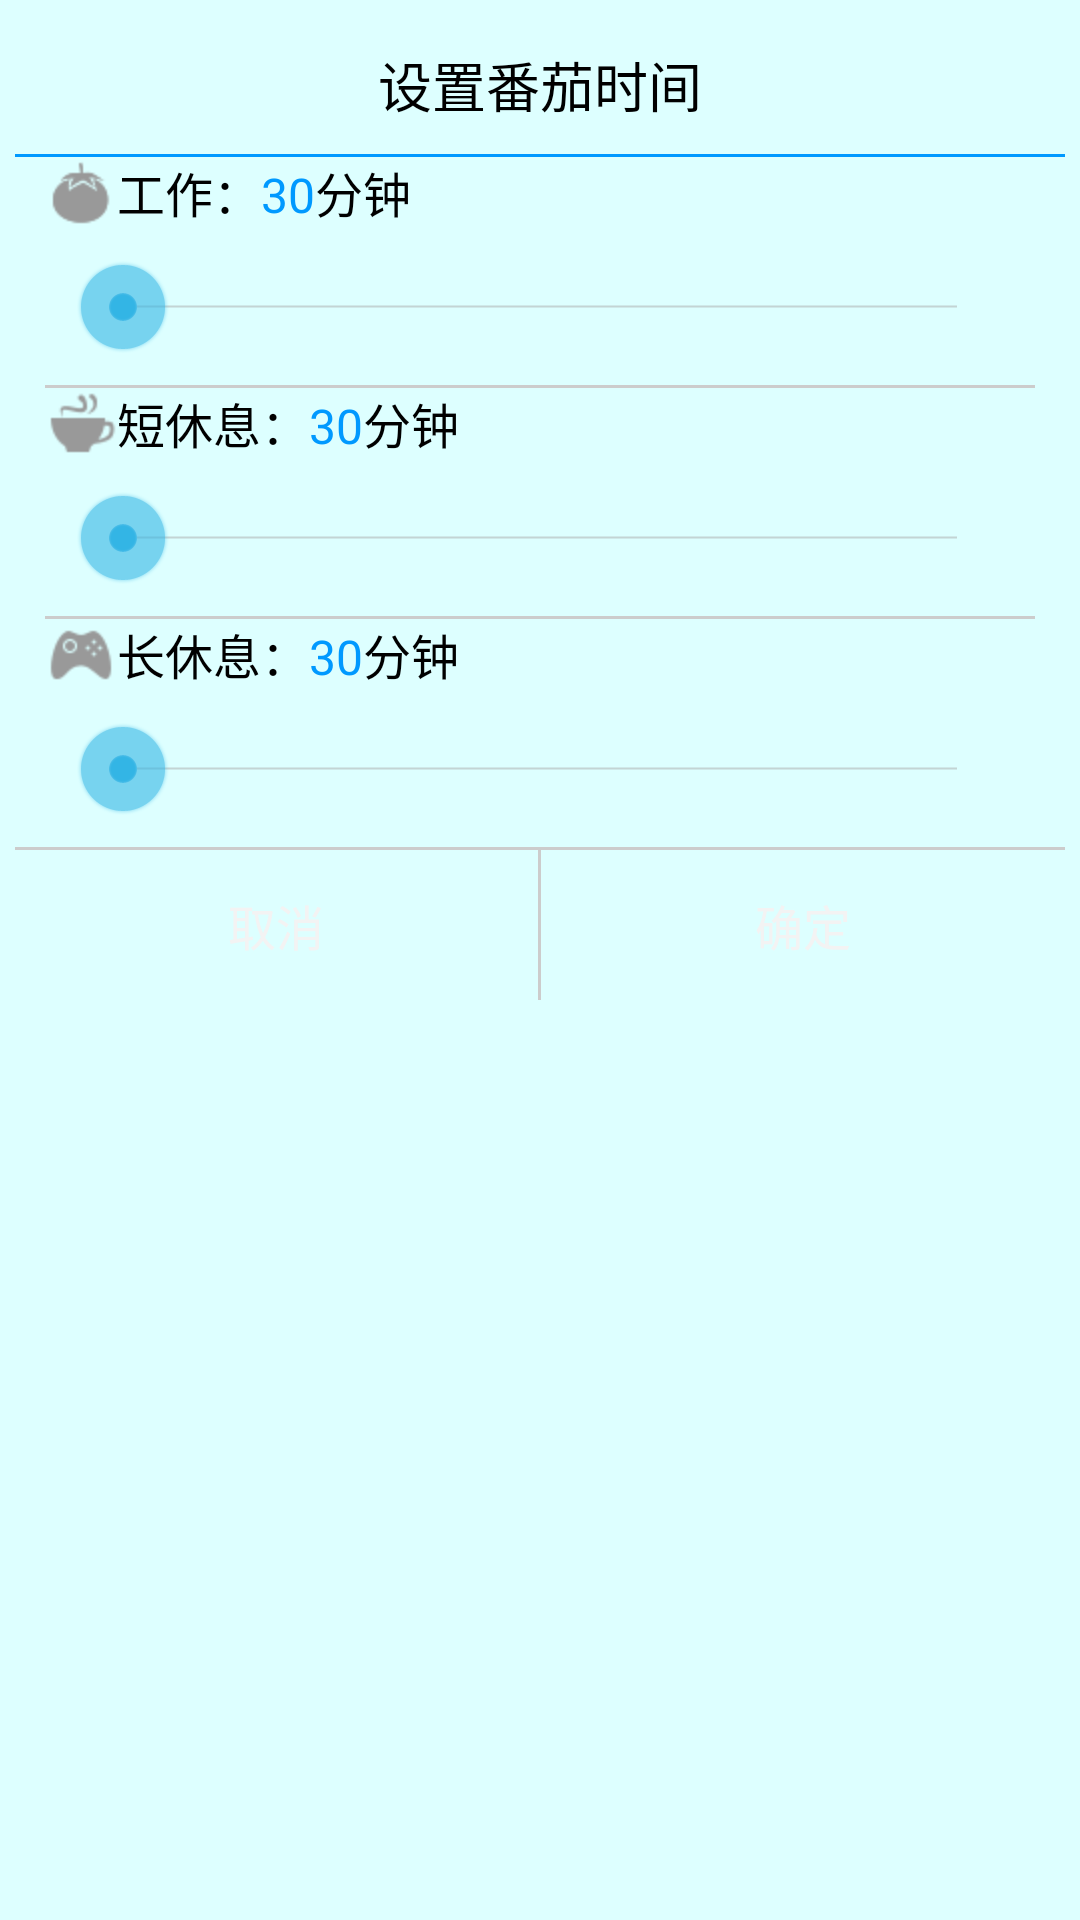

Point at icon controls on the screen. Image size 1080w x 1920h, points as (x,y).
tomato: (80,193)
